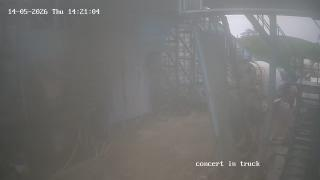cement_mixer_truck: (233, 58, 295, 112)
